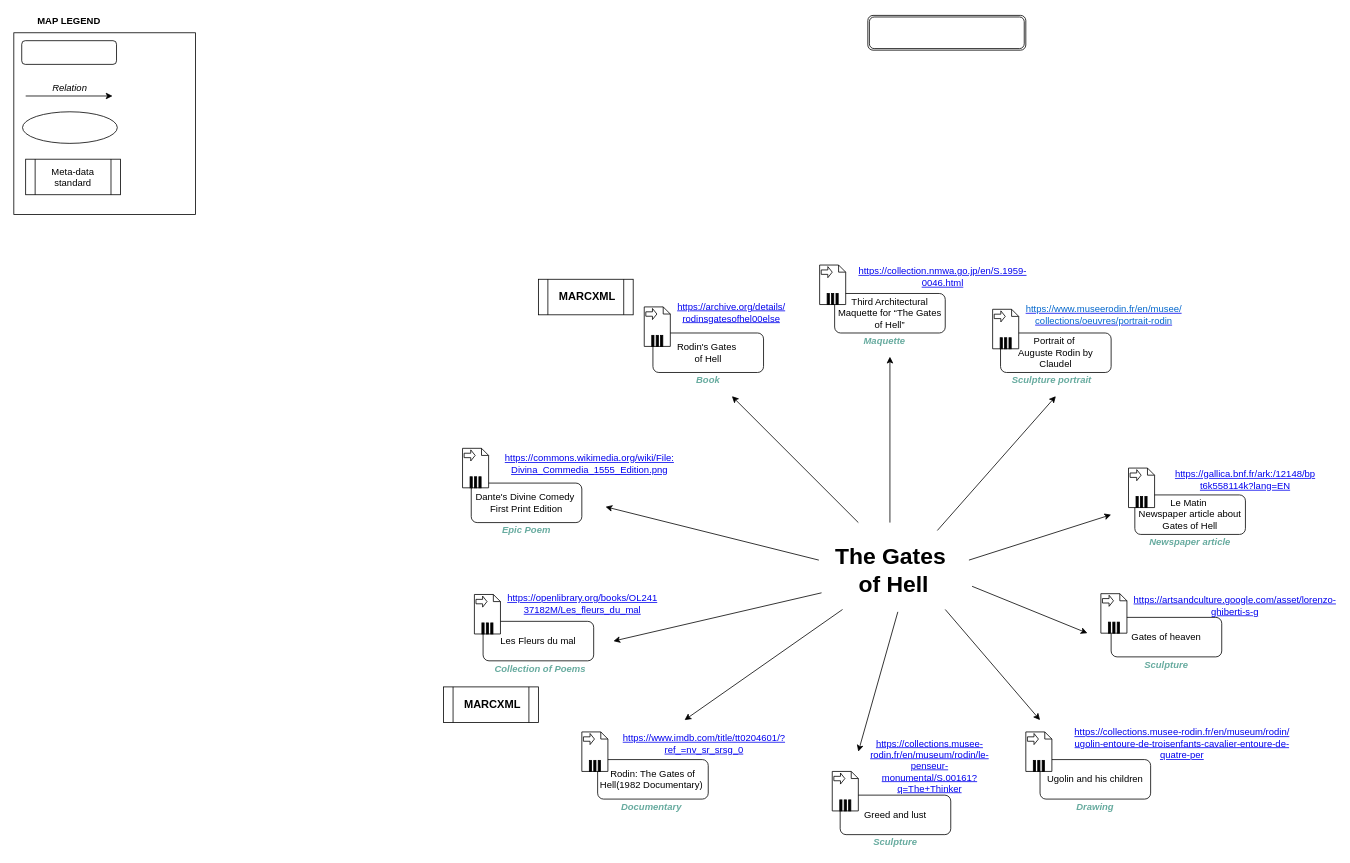
The diagram is 1350 pixels wide and 863 high, and some of its shapes have lost their labels. Each missing label, with the centre of its shape:
Conceptual Map: the point at 946,32
Item Name: the point at 69,52
Related information: the point at 69,127
